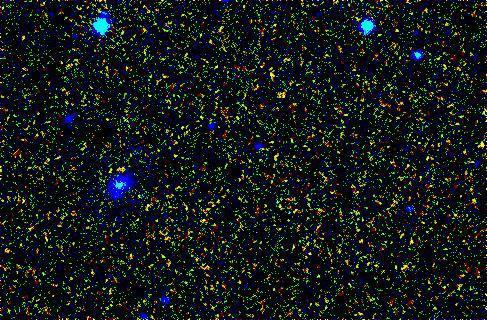star: (106, 158, 136, 188)
